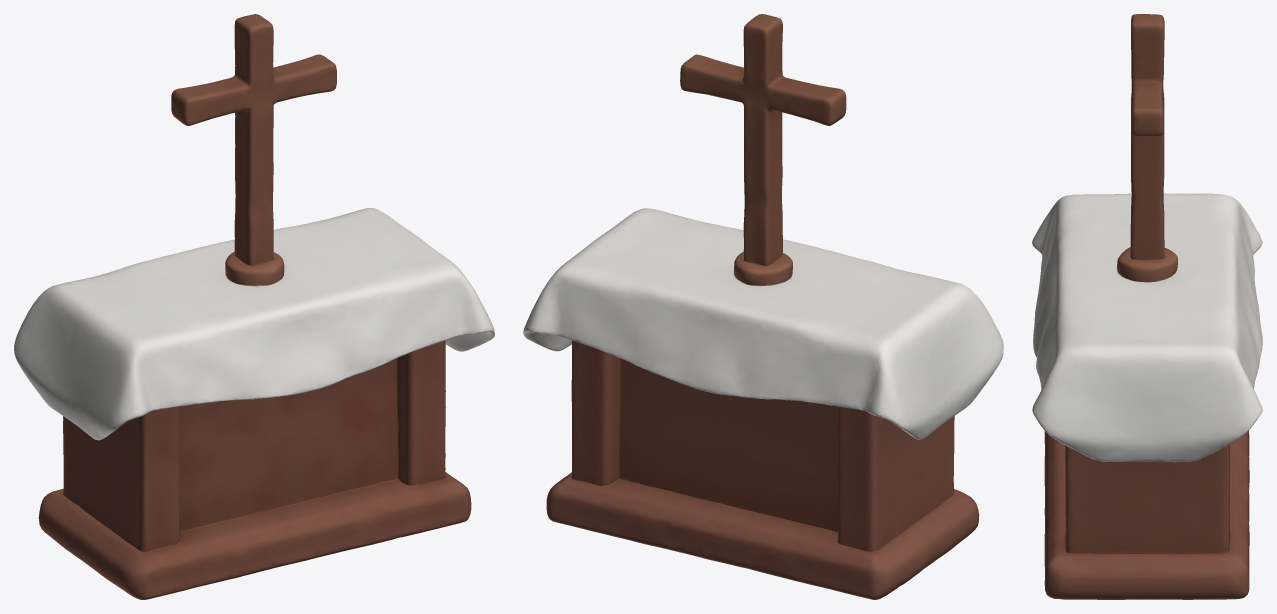
File: altar.glb
3 renders of one model, left to right at view 1: azimuth 30°, elevation 25°; view 2: azimuth 150°, elevation 25°; view 3: azimuth 270°, elevation 25°, orthographic.
Parts seen in each view (by area): view 1: Mesh; view 2: Mesh; view 3: Mesh.
Part boxes in pixels (<box>): Mesh: <box>14,14,494,599</box>; Mesh: <box>523,14,1003,599</box>; Mesh: <box>1032,14,1262,599</box>.
Size of the model in its own units: 1.5 by 1.9 by 0.7897.
Materials: 1 (1 with a texture image).
